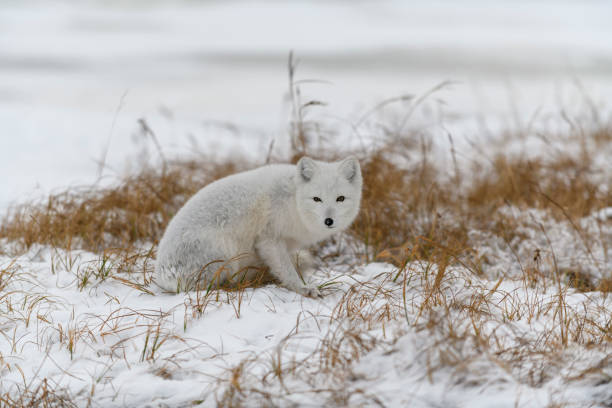arcticfox: (306, 176, 344, 233)
